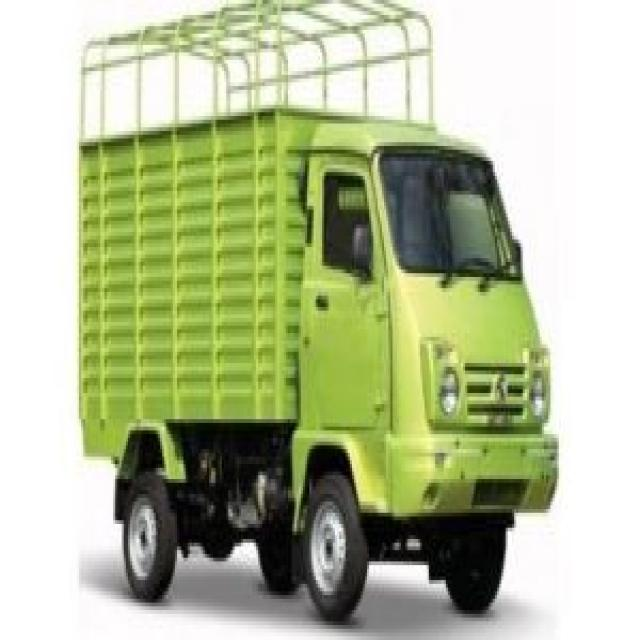truck: (79, 0, 560, 617)
